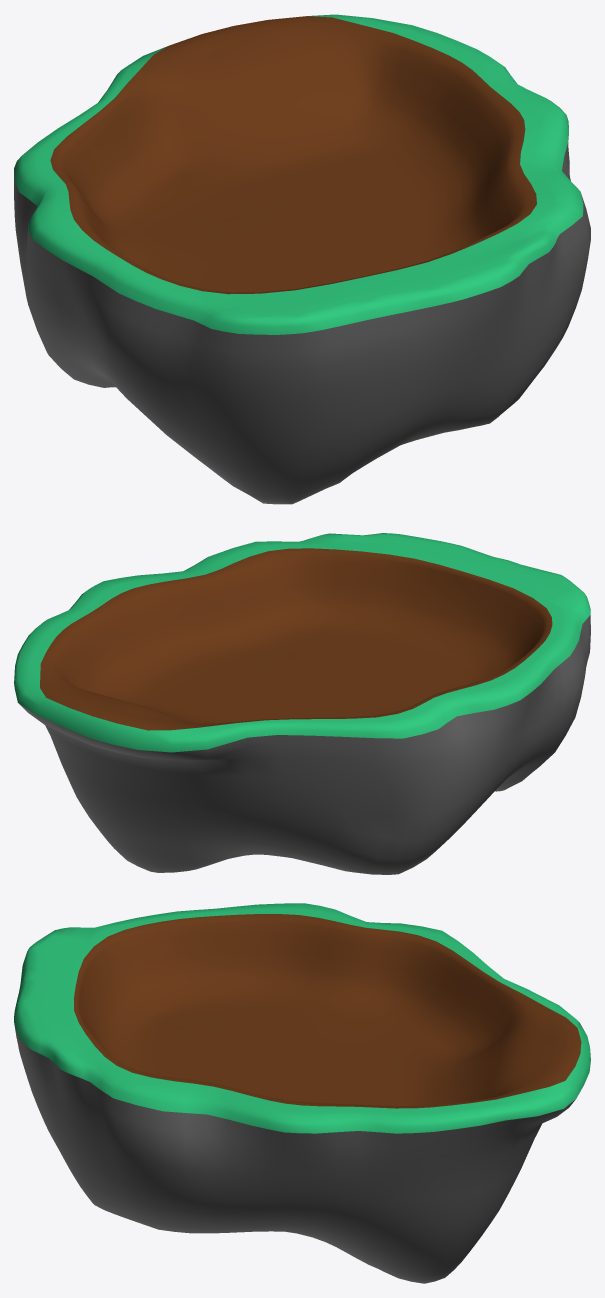
File: MudAreaTest.fbx
The picture shows the model from 3 angles, top to bottom: view 1: azimuth 30°, elevation 25°; view 2: azimuth 150°, elevation 25°; view 3: azimuth 270°, elevation 25°; orthographic projection. The views are drawn at different scales.
Parts seen in each view (by area): view 1: IslandMudAreaStone_Model, IslandMudAreaMud_Model; view 2: IslandMudAreaStone_Model, IslandMudAreaMud_Model; view 3: IslandMudAreaStone_Model, IslandMudAreaMud_Model.
Boxes of the visible parts, box(x1,y1,x2,y2) form: IslandMudAreaStone_Model: box(14, 14, 590, 504); IslandMudAreaMud_Model: box(50, 16, 536, 294); IslandMudAreaStone_Model: box(14, 533, 590, 874); IslandMudAreaMud_Model: box(40, 548, 552, 730); IslandMudAreaStone_Model: box(14, 903, 590, 1283); IslandMudAreaMud_Model: box(74, 914, 581, 1108).
Bounding box in the file's own units: 5801 × 2719 × 6344.
